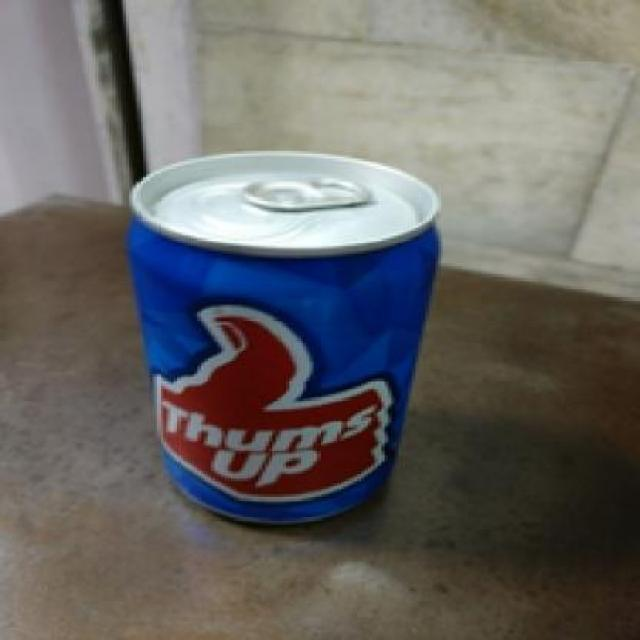non-organic waste: (123, 140, 459, 552)
